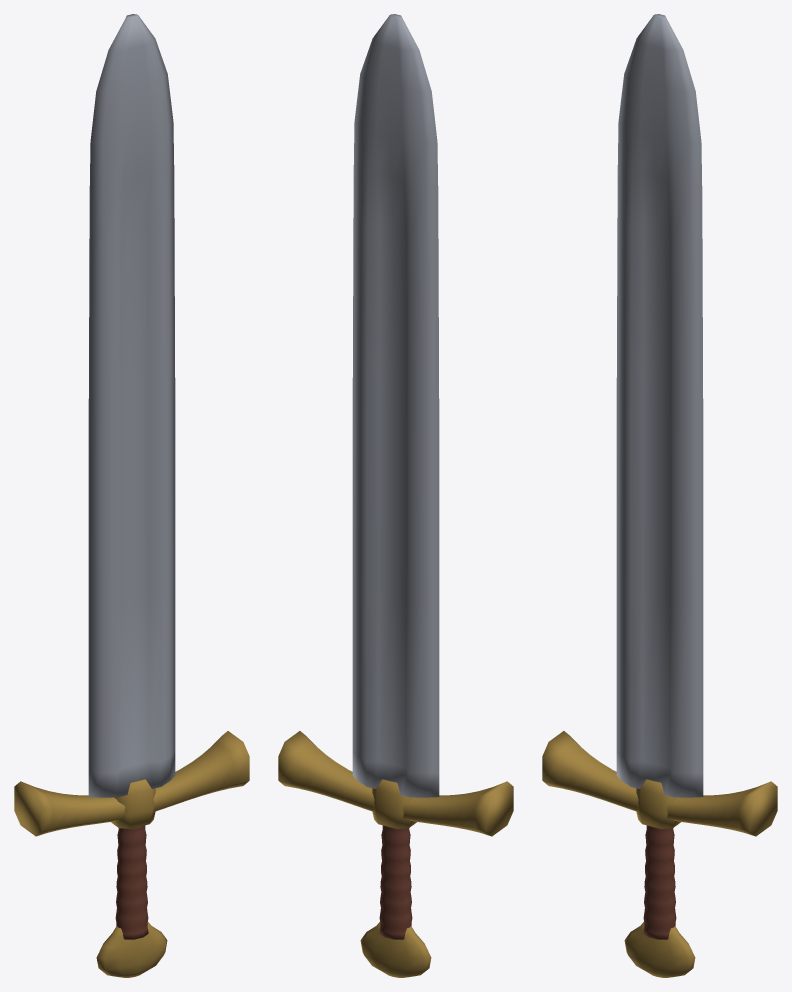
File: player_sword.glb
3 views of the same model, side by side, from view 1: azimuth 30°, elevation 25°; view 2: azimuth 150°, elevation 25°; view 3: azimuth 330°, elevation 25° (orthographic).
Visible parts, largest first — view 1: Sword; view 2: Sword; view 3: Sword.
Boxes of the visible parts, bbox=[...] form: Sword: bbox=[14, 14, 249, 977]; Sword: bbox=[278, 14, 513, 977]; Sword: bbox=[542, 14, 777, 977].
Bounding box in the file's own units: 0.62 × 2.74 × 0.1444.
